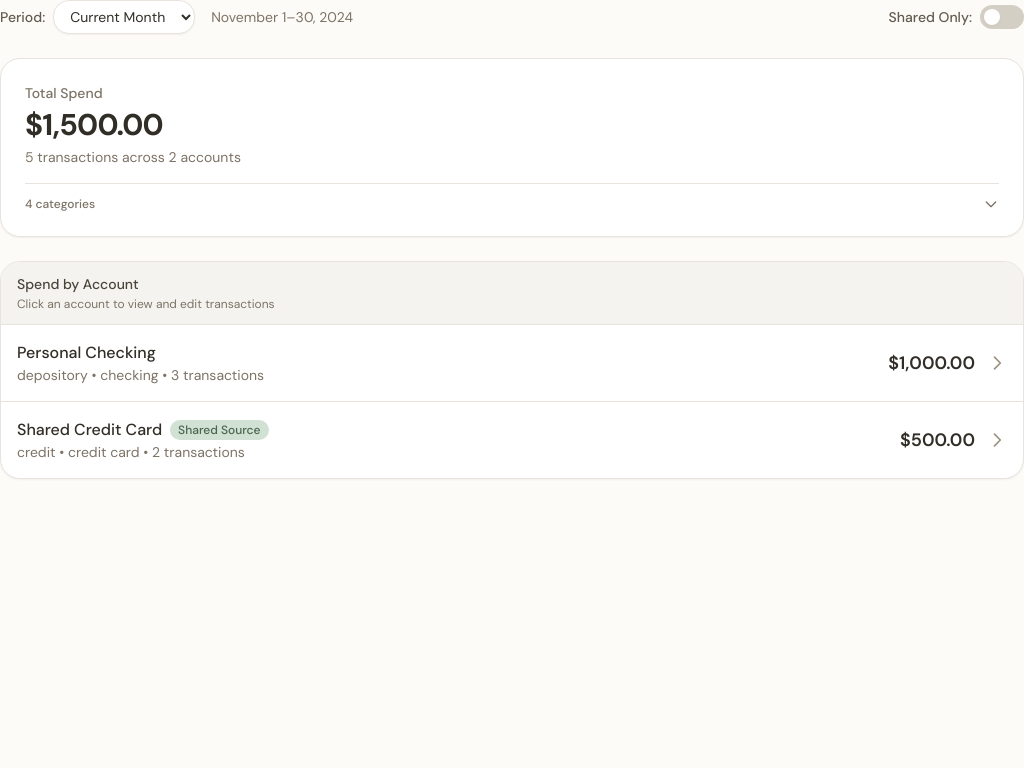
Test case: SpendSummary › Account Accordion › allows multiple accounts to be expanded simultaneously
The image size is (1024, 768).
Expected: the text "Personal Checking" is shown, top-left (17, 341), bottom-right (156, 365)
Click the button "Personal Checking" at (86, 352), box top-left (1, 325), bottom-right (1023, 401)
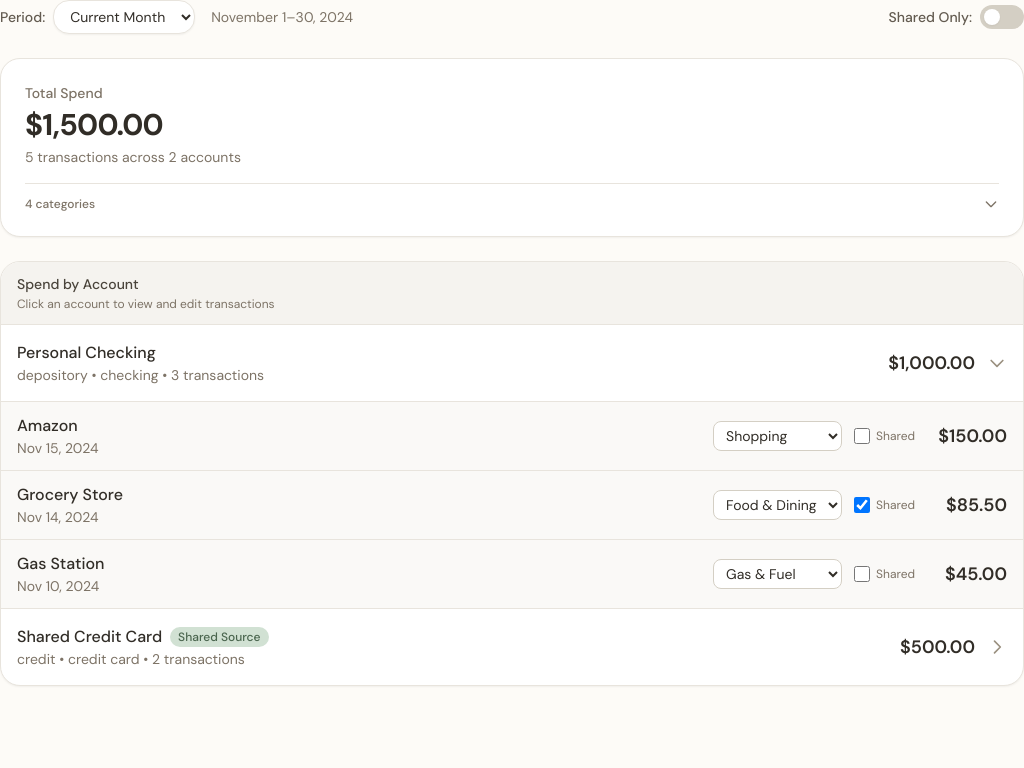
Click the button "Shared Credit Card" at (90, 636), box top-left (1, 609), bottom-right (1023, 685)
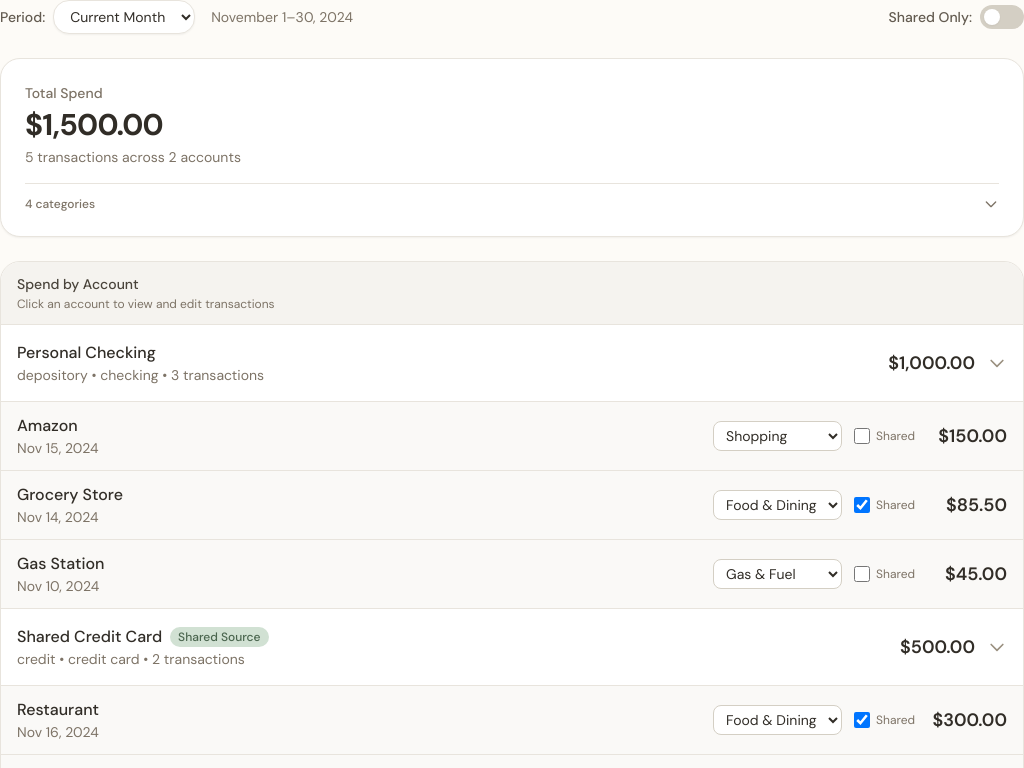
Result: the button "Personal Checking" is expanded at top-left (1, 325), bottom-right (1023, 401)
Result: the text "Amazon" is shown at top-left (17, 415), bottom-right (78, 436)
Result: the button "Shared Credit Card" is expanded at top-left (1, 609), bottom-right (1023, 685)
